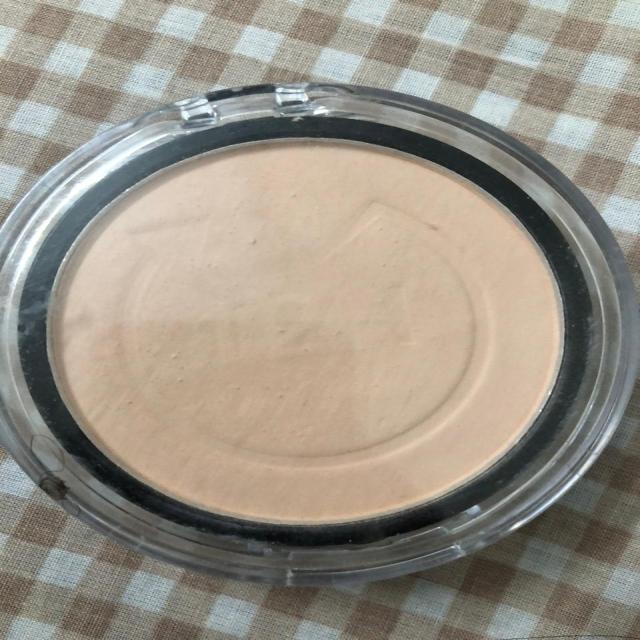powder: (3, 64, 640, 575)
